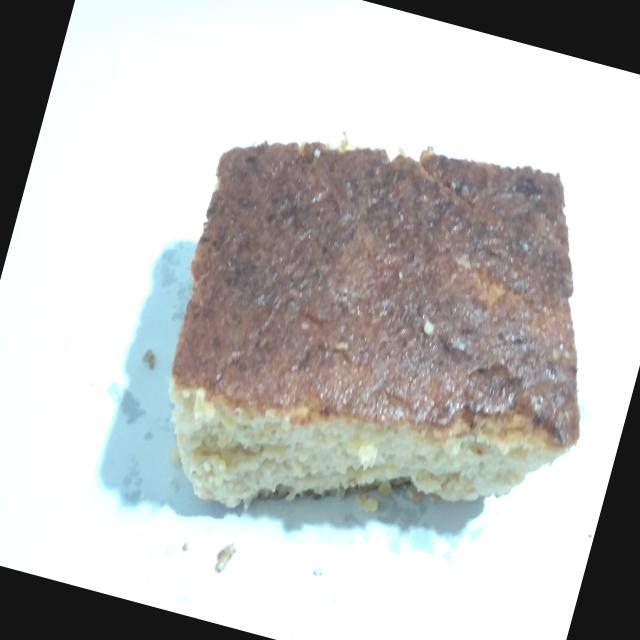Chipa_Guazu: (114, 61, 640, 602)
